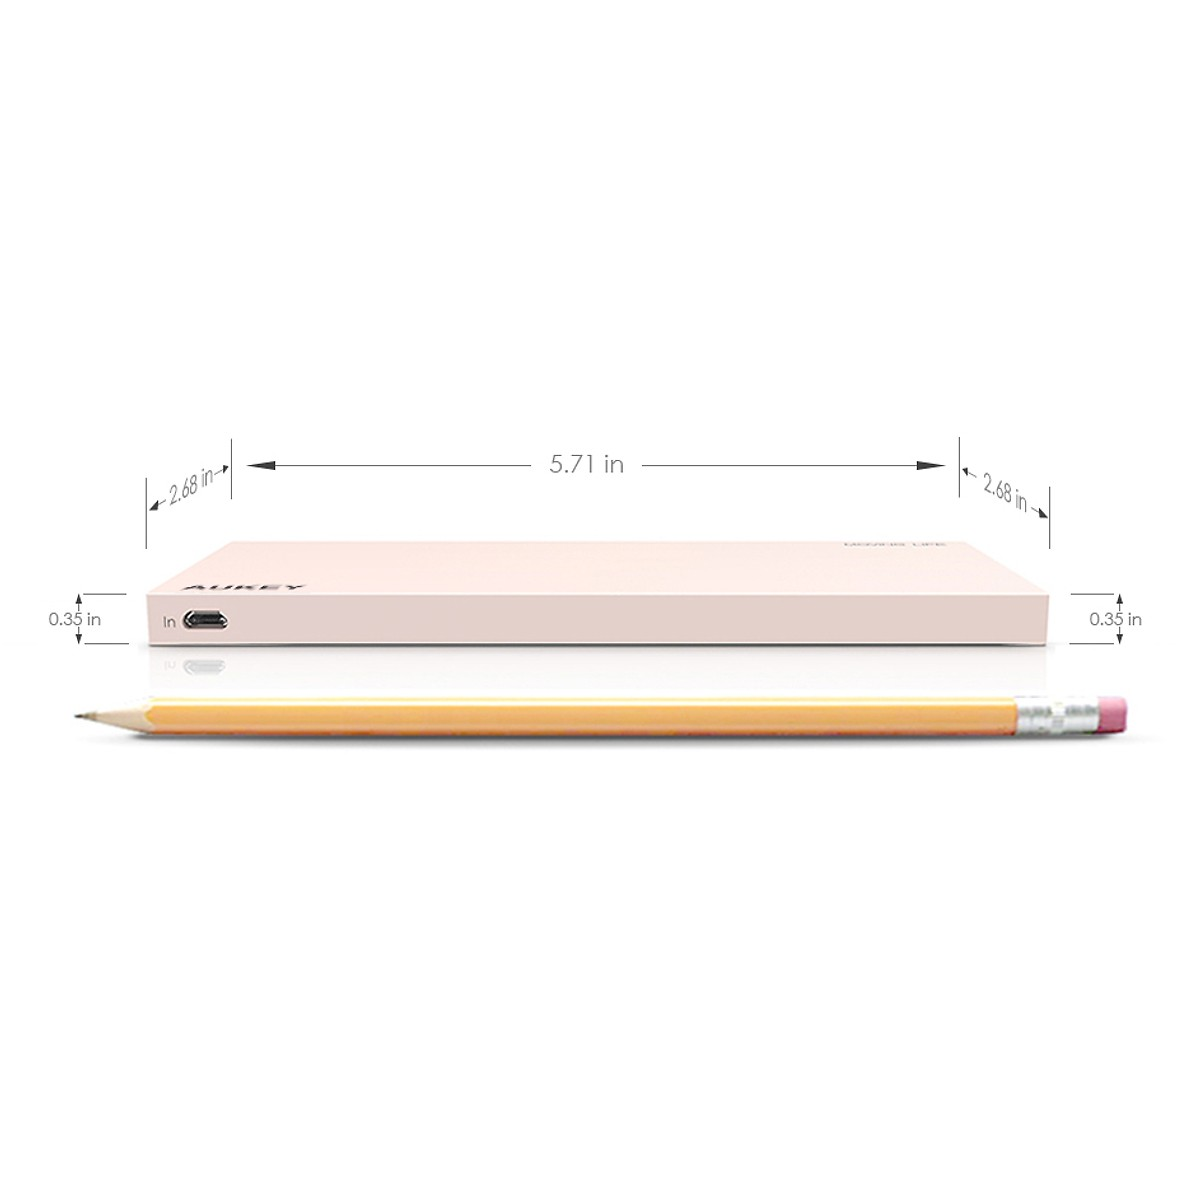Aukey: (157, 553, 364, 673)
